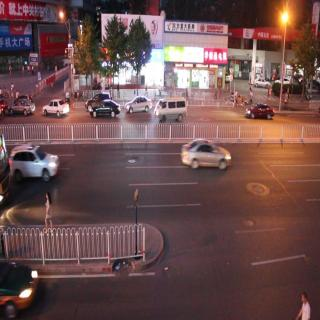BigCar: (0, 127, 11, 210)
Car: (12, 142, 70, 190), (176, 133, 232, 181), (154, 94, 188, 127), (245, 93, 274, 122), (91, 96, 121, 124), (124, 91, 150, 121), (7, 97, 37, 123), (41, 92, 69, 118)
